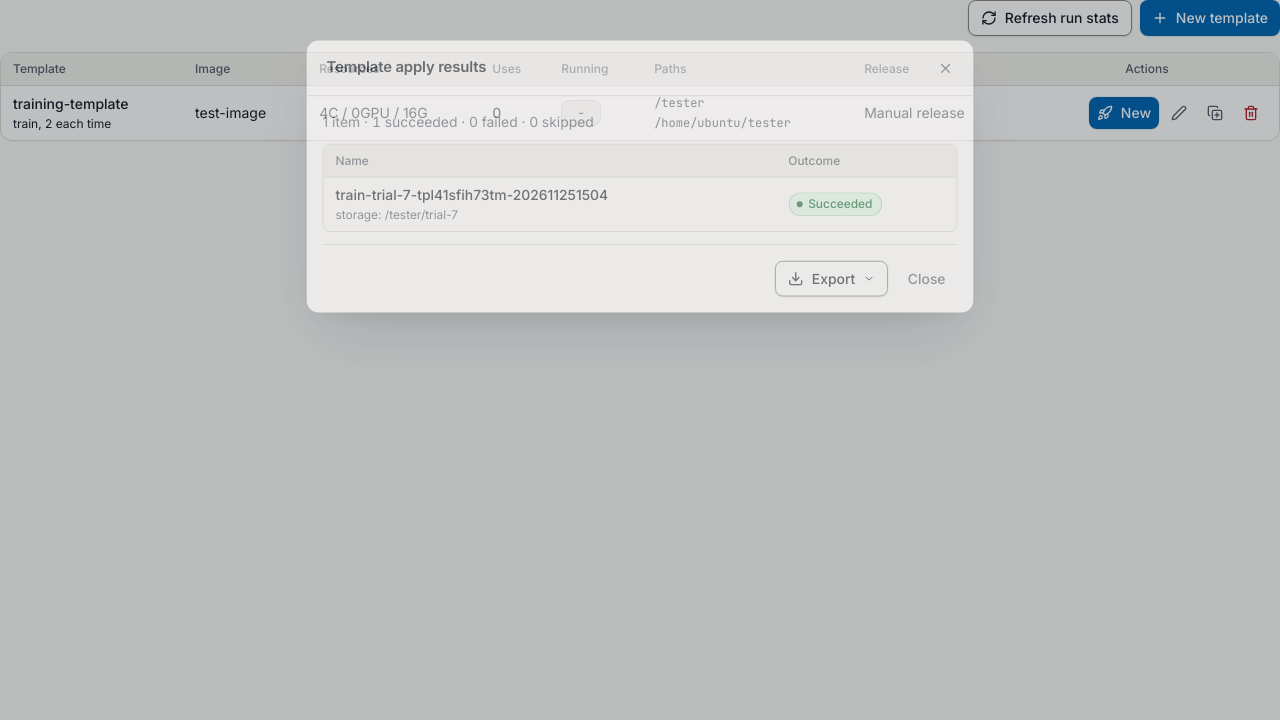
Test: TaskTemplatesPage billable batch flows › retries only a confirmed failed subset and links the second change-list record
Click the button "New" at (1124, 113), box [1089,97,1159,129]
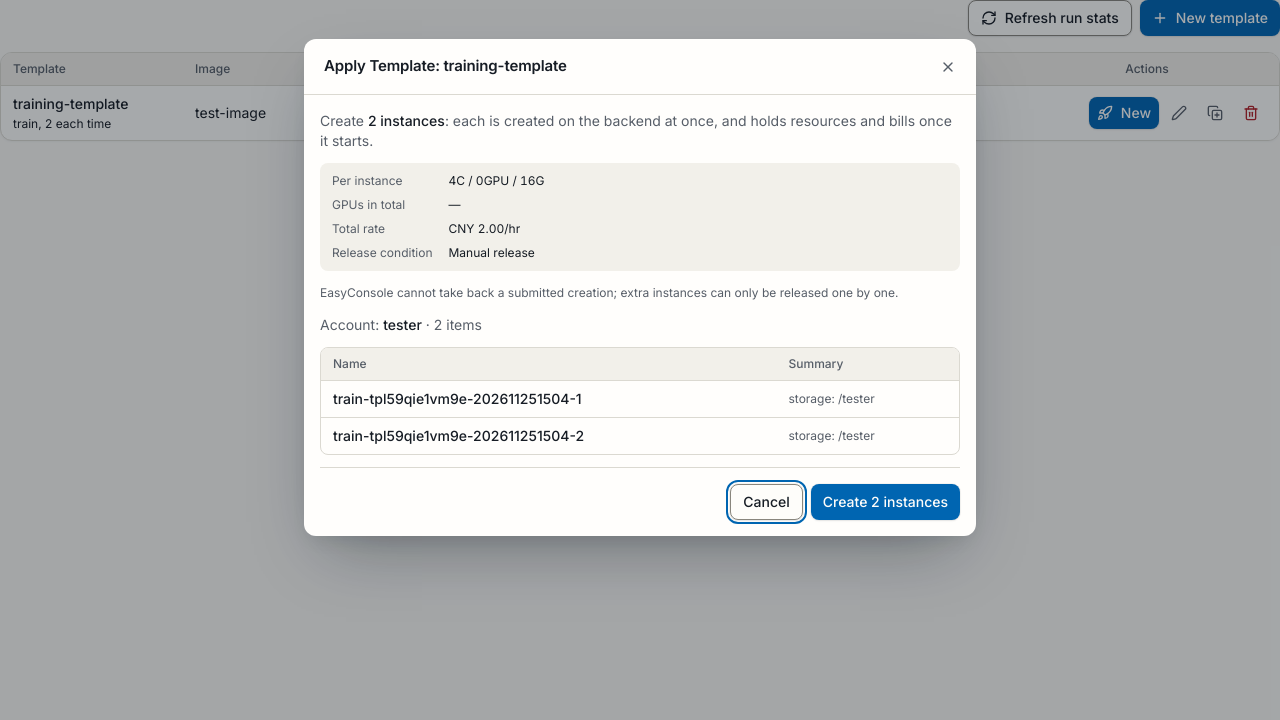
Click the button "Create 2 instances" at (885, 502), box [811,484,960,520]
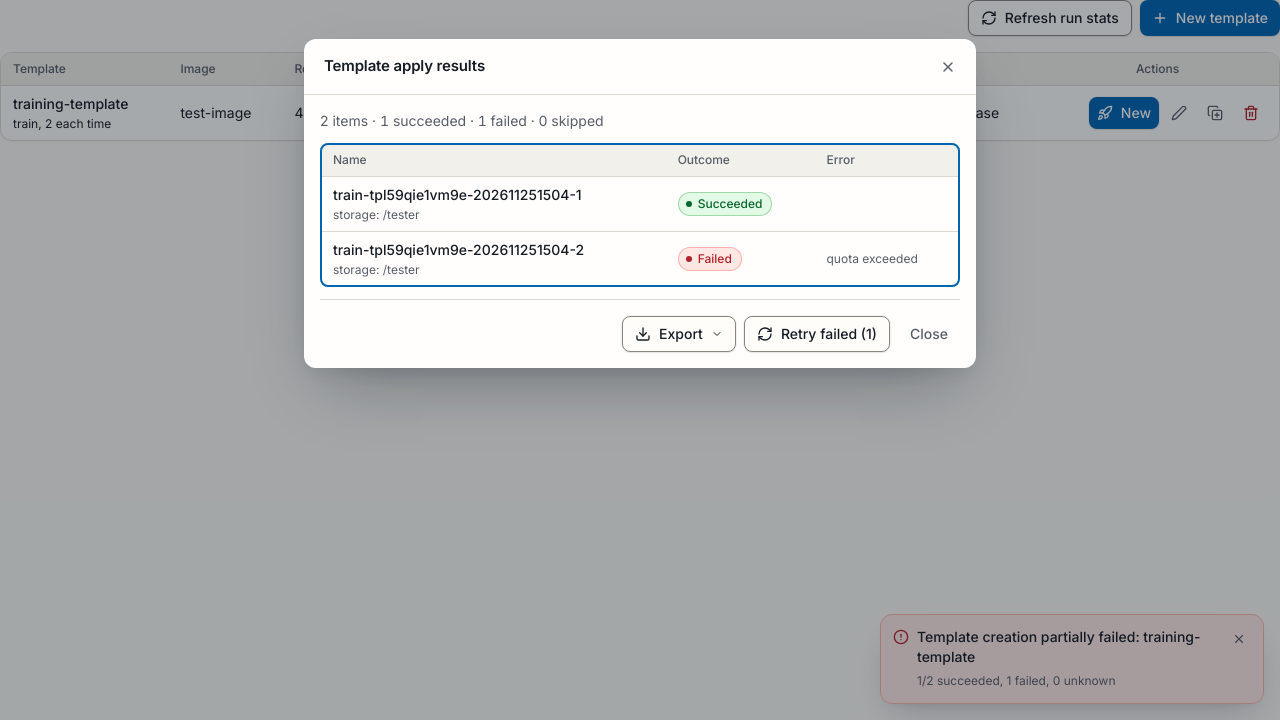
Click the button "Retry failed (1)" at (817, 334), box [744,316,890,352]
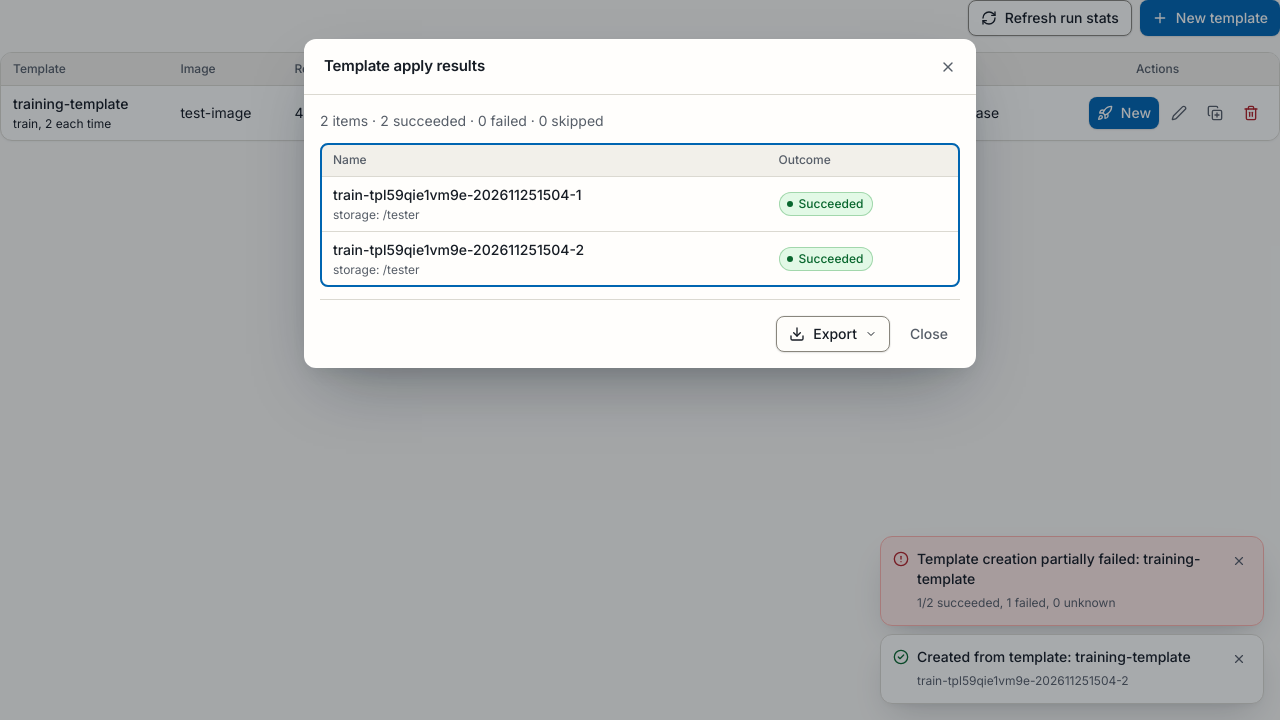
Now the message with test id "batch-result-summary" reads "2 items · 2 succeeded · 0 failed · 0 skipped", box [380,112,604,129]
